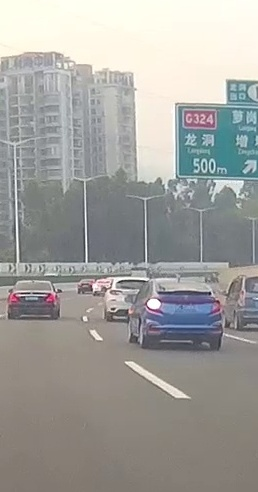L_light: (144, 297, 164, 316), (8, 292, 20, 304)
R_light: (209, 299, 223, 316), (44, 292, 56, 303)
T_light: (174, 280, 185, 283), (30, 281, 37, 284)
day-left: (141, 278, 224, 349)
day-no: (6, 280, 58, 320)
